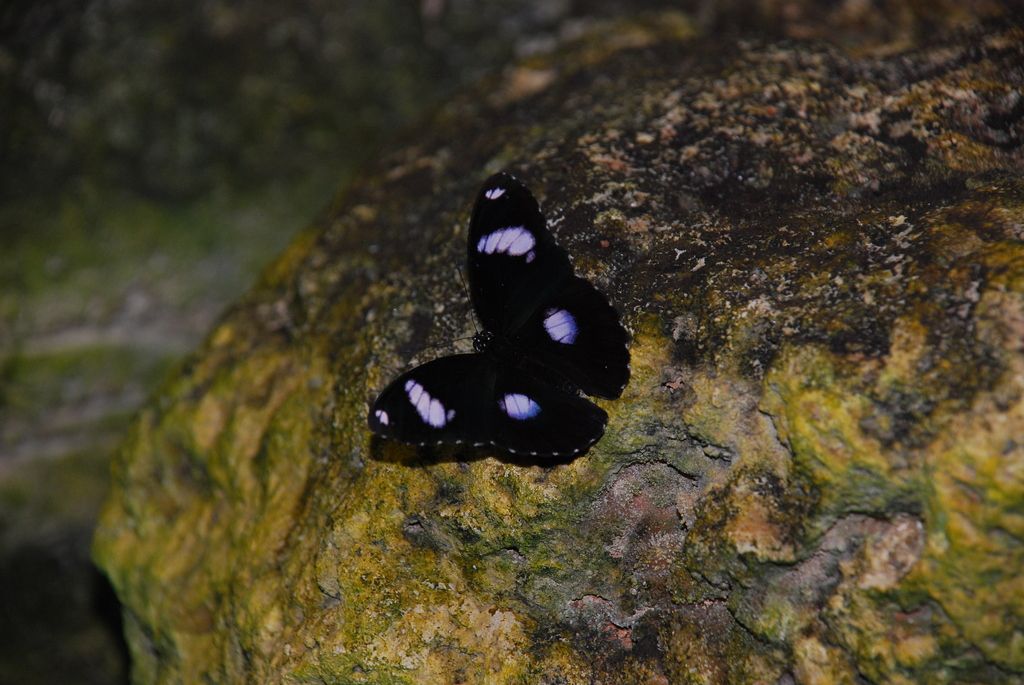Butterfly: (354, 186, 640, 470)
